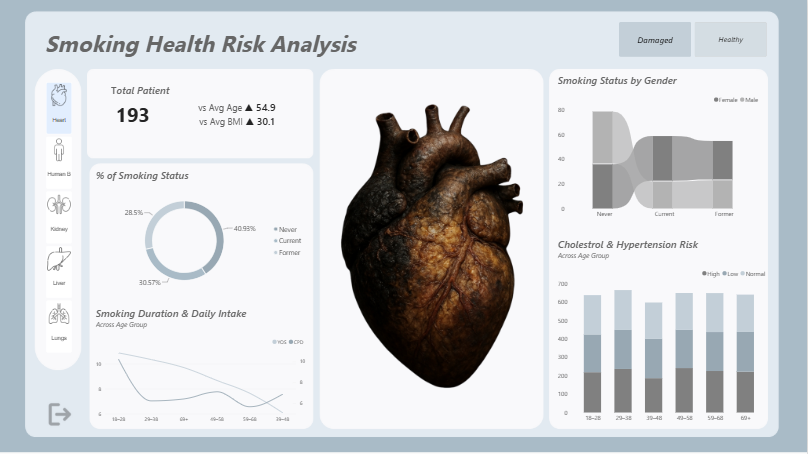

This screenshot's page, from the dashboard's own definition file:
{"tool":"powerbi","page":{"name":"Smoking Health Risk Analysis","canvas":[1920,1080],"ordinal":0},"visuals":[{"type":"cardVisual","fields":{"Data":["CountNonNull(health_dataset.Patient_ID)"]},"box":[228.6,178.6,497.6,185.7],"z":0},{"type":"textbox","box":[264.3,178.6,283.3,114.3],"z":1000},{"type":"advancedSlicerVisual","fields":{"Values":["condition.Organ_Condition"]},"box":[1473.8,52.4,352.4,83.3],"z":2000},{"type":"ChicletSlicer1448559807354","fields":{"Category":["Organs.Organ"],"Image":["Organs.Icon_URL"]},"box":[90.5,178.6,100,690.5],"z":3000},{"type":"image","box":[764.3,178.6,528.6,831],"z":4000},{"type":"donutChart","title":"% of Smoking Status","fields":{"Category":["health_dataset.Smoking_Status"],"Y":["CountNonNull(health_dataset.Smoking_Status)"]},"box":[211.9,385.7,531,328.6],"z":5000},{"type":"lineChart","title":"Smoking Duration & Daily Intake","fields":{"Category":["health_dataset.Age Group"],"Y":["Avg(health_dataset.Years_of_Smoking)"],"Y2":["Avg(health_dataset.Cigarettes_Per_Day)"]},"box":[211.9,714.3,531,311.9],"z":6000},{"type":"ribbonChart","title":"Smoking Status by Gender","fields":{"Category":["health_dataset.Smoking_Status"],"Series":["health_dataset.Gender"],"Y":["CountNonNull(health_dataset.Patient_ID)"]},"box":[1311.9,159.5,514.3,381],"z":6001},{"type":"columnChart","title":"Cholestrol & Hypertension Risk","fields":{"Category":["health_dataset.Age Group"],"Series":["health_dataset.BP_Risk"],"Y":["Avg(health_dataset.Cholesterol_Level)"]},"box":[1311.9,550,531,476.2],"z":6002},{"type":"textbox","box":[107.1,66.7,819,92.9],"z":6003}]}

Visuals, with their boxes in screenshot pixels (x1, y1, x2, y2), scaled from the page's 1920x1080 canvas onto the 808x454 screenshot:
cardVisual - CountNonNull(health_dataset.Patient_ID): [x1=96, y1=75, x2=306, y2=153]
textbox: [x1=111, y1=75, x2=230, y2=123]
advancedSlicerVisual - condition.Organ_Condition: [x1=620, y1=22, x2=769, y2=57]
ChicletSlicer1448559807354 - Organs.Organ x Organs.Icon_URL: [x1=38, y1=75, x2=80, y2=365]
image: [x1=322, y1=75, x2=544, y2=424]
"% of Smoking Status" donutChart: [x1=89, y1=162, x2=313, y2=300]
"Smoking Duration & Daily Intake" lineChart: [x1=89, y1=300, x2=313, y2=431]
"Smoking Status by Gender" ribbonChart: [x1=552, y1=67, x2=769, y2=227]
"Cholestrol & Hypertension Risk" columnChart: [x1=552, y1=231, x2=776, y2=431]
textbox: [x1=45, y1=28, x2=390, y2=67]
